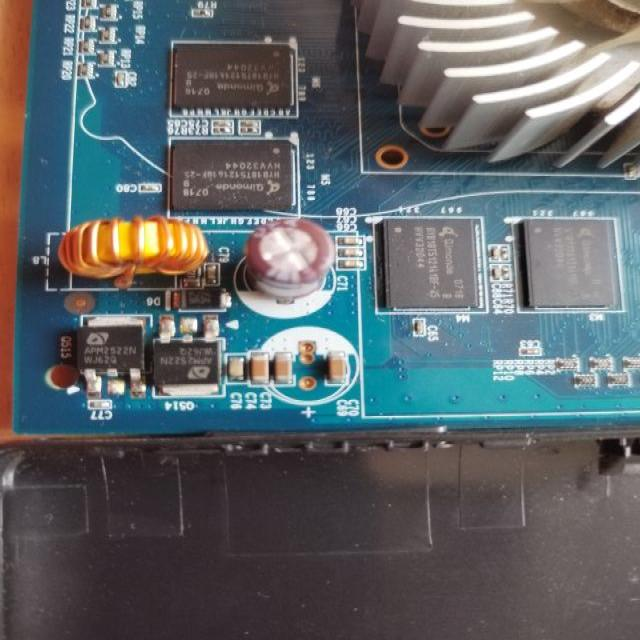capacitor: (318, 341, 353, 396), (400, 308, 428, 347), (252, 351, 269, 387), (226, 352, 242, 385), (277, 355, 294, 386), (341, 256, 365, 270), (338, 233, 367, 244), (503, 244, 517, 262), (340, 248, 366, 257), (502, 263, 514, 281), (490, 244, 500, 264), (491, 271, 501, 287)
resistor: (606, 375, 632, 396), (74, 35, 95, 57), (517, 344, 544, 361), (570, 372, 596, 387), (585, 356, 615, 369), (618, 354, 640, 371), (94, 51, 119, 65), (554, 359, 580, 371), (112, 70, 126, 92), (76, 63, 91, 79), (99, 26, 114, 42), (76, 38, 89, 56), (78, 15, 91, 26)
